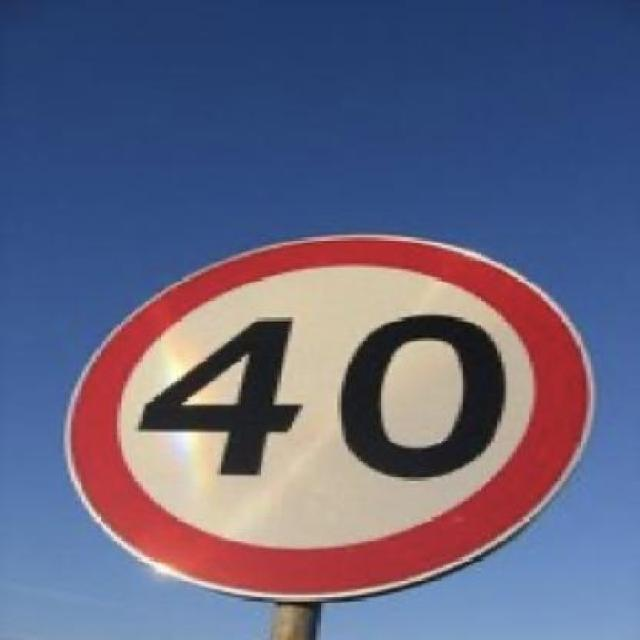forb_speed_over_40: (66, 232, 592, 594)
